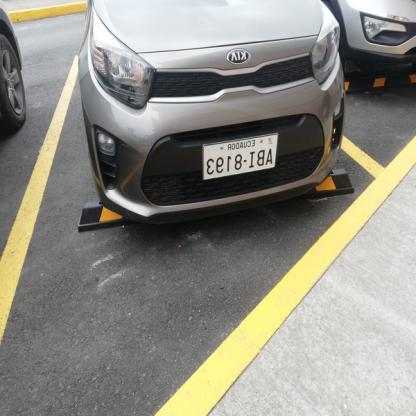Placa: (201, 131, 281, 183)
